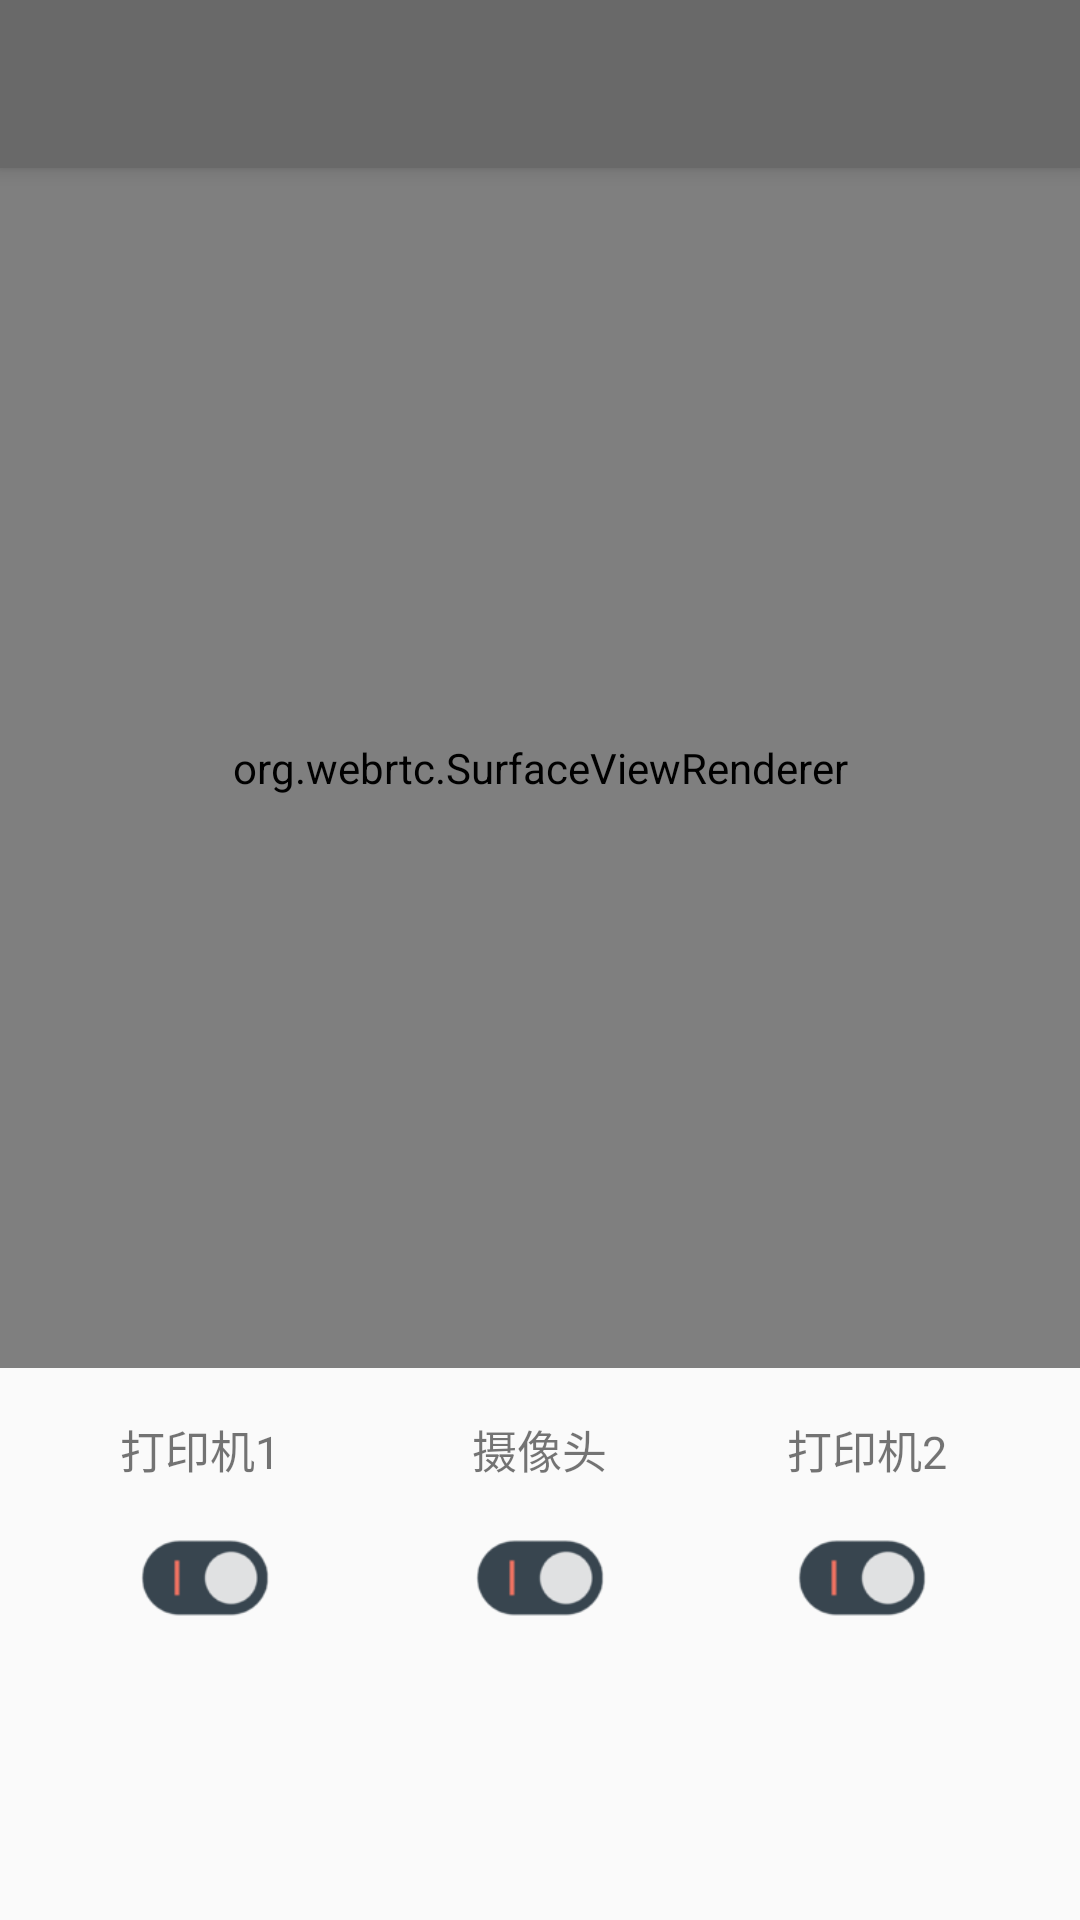

Screen size 1080×1920. Icon name, then its center in pixels as (x,y):
switch off: (205,1578), (540,1578), (862,1578)
